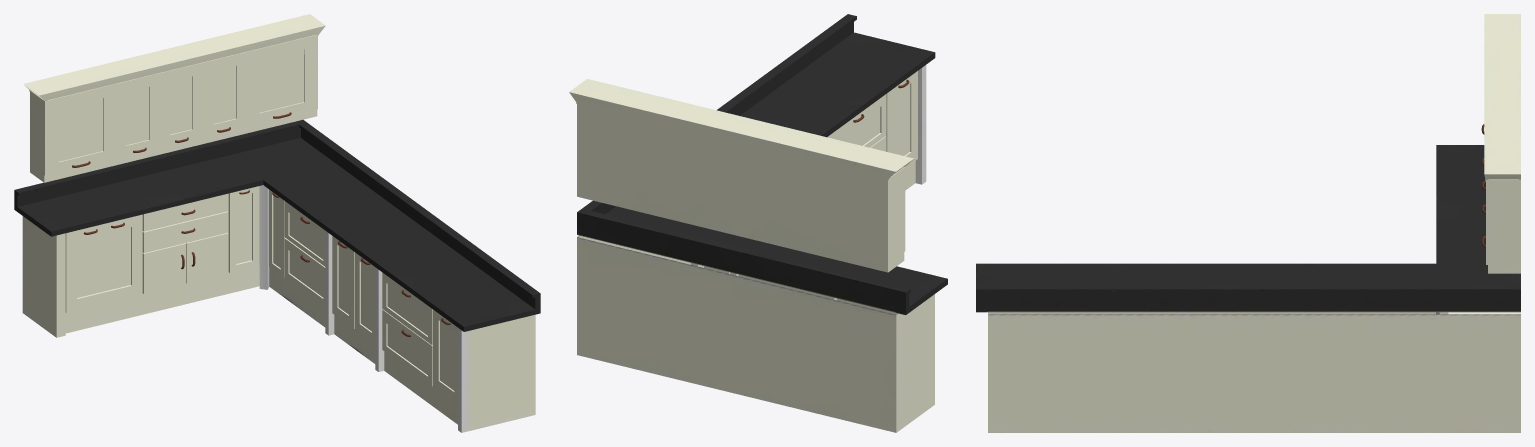
The model's file is kitchen_cabinet_2.glb.
3 renders of one model, left to right at view 1: azimuth 30°, elevation 25°; view 2: azimuth 150°, elevation 25°; view 3: azimuth 270°, elevation 25°, orthographic. The views are drawn at different scales.
Visible parts, largest first — view 1: Cabinet; view 2: Cabinet; view 3: Cabinet.
Boxes of the visible parts, x1,y1,x2,y2 form: Cabinet: (14, 14, 540, 432); Cabinet: (569, 14, 947, 432); Cabinet: (976, 14, 1520, 432).
Size of the model in its own units: 3.93 by 2.91 by 5.48.
Materials: 2 (2 with a texture image).
